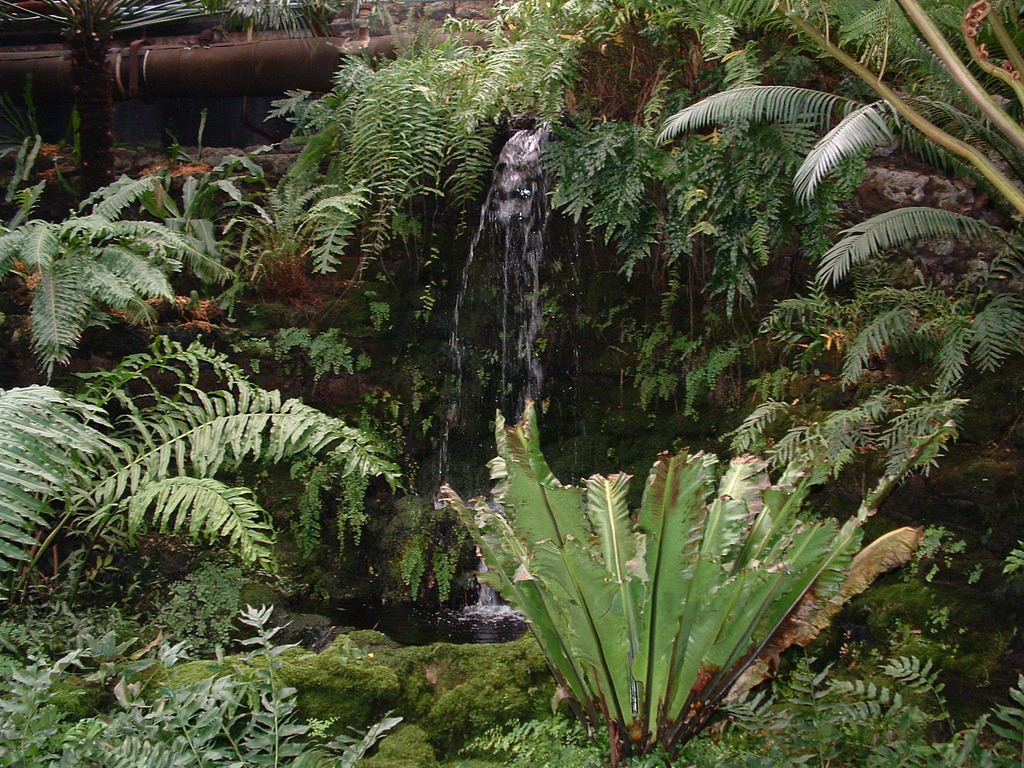Tree: (0, 0, 1024, 409)
